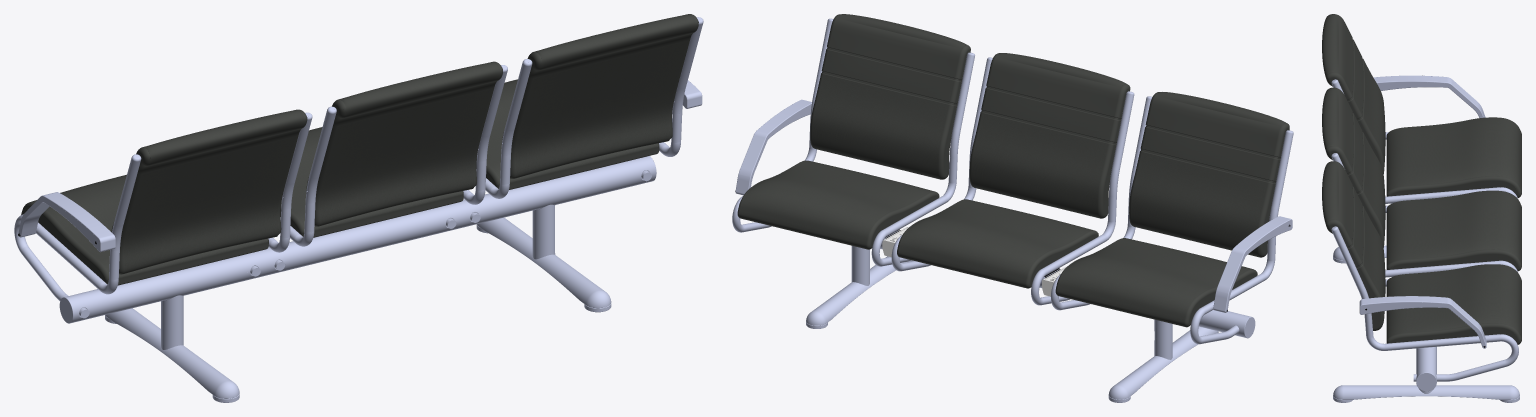
The model's file is Airport_Bench.fbx.
3 renders of one model, left to right at view 1: azimuth 30°, elevation 25°; view 2: azimuth 150°, elevation 25°; view 3: azimuth 270°, elevation 25°, orthographic. The views are drawn at different scales.
Parts seen in each view (by area): view 1: Back_Cushion (×9), Bottom (×6), Bottom_cushion (×4), Arm_Rest (×2), Top_Tube; view 2: Back_Cushion (×20), Bottom_cushion (×8), Bottom (×5), Top_Tube (×4), Arm_Rest (×2); view 3: Bottom_cushion (×9), Back_Cushion (×19), Top_Tube (×6), Bottom (×3), Arm_Rest (×4).
Boxes of the visible parts, box(x1,y1,x2,y2) form: Back_Cushion (×9): box(123, 14, 696, 273); Bottom (×6): box(64, 156, 656, 395); Bottom_cushion (×4): box(21, 79, 656, 279); Arm_Rest (×2): box(18, 192, 111, 251); Top_Tube: box(36, 224, 102, 290); Back_Cushion (×20): box(812, 14, 1285, 257); Bottom_cushion (×8): box(739, 160, 1251, 326); Bottom (×5): box(812, 230, 1251, 396); Top_Tube (×4): box(884, 94, 1293, 274); Arm_Rest (×2): box(757, 100, 1289, 249); Bottom_cushion (×9): box(1386, 117, 1521, 343); Back_Cushion (×19): box(1322, 14, 1385, 330); Top_Tube (×6): box(1332, 187, 1518, 379); Bottom (×3): box(1343, 347, 1509, 399); Arm_Rest (×4): box(1360, 75, 1485, 348).
Size of the model in its own units: 77.64 by 34.18 by 28.89.
Materials: 5 (1 with a texture image).
